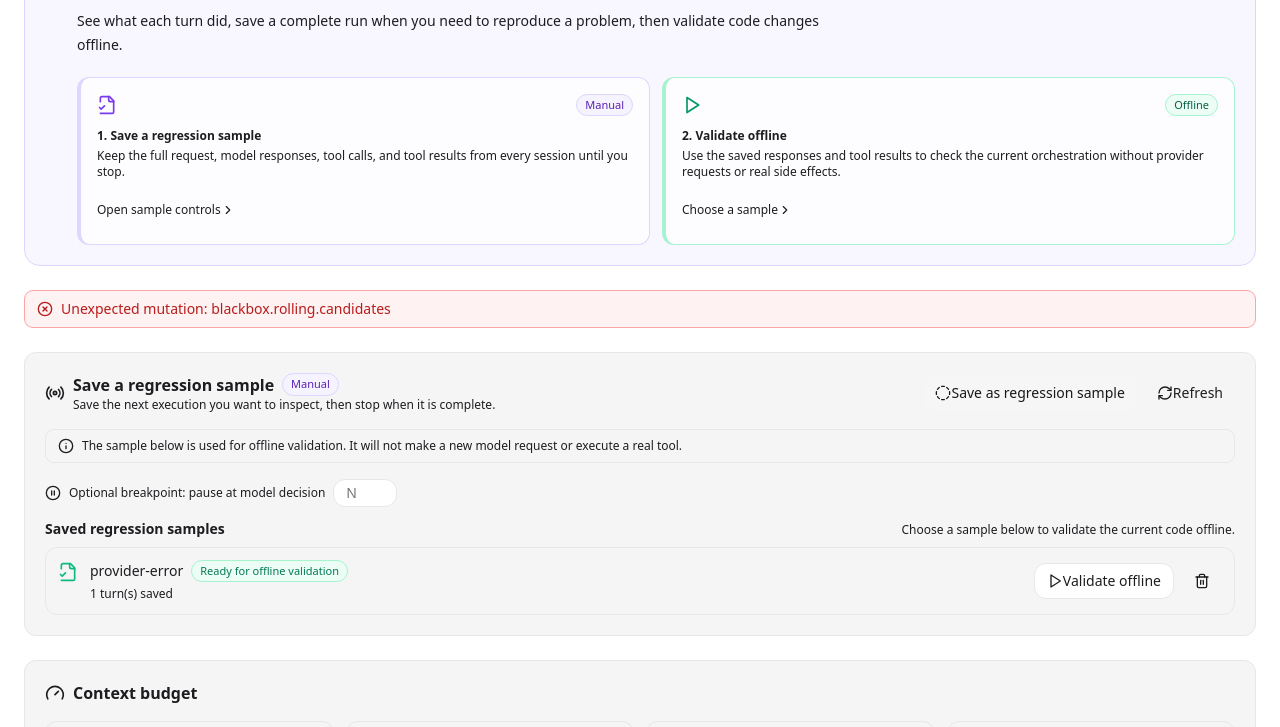
Test: Record & Replay inspection › surfaces provider failures separately from a consistent replay
Click the button "Validate offline" at (1104, 581), box [1034,563,1174,599]
(page scrolled)
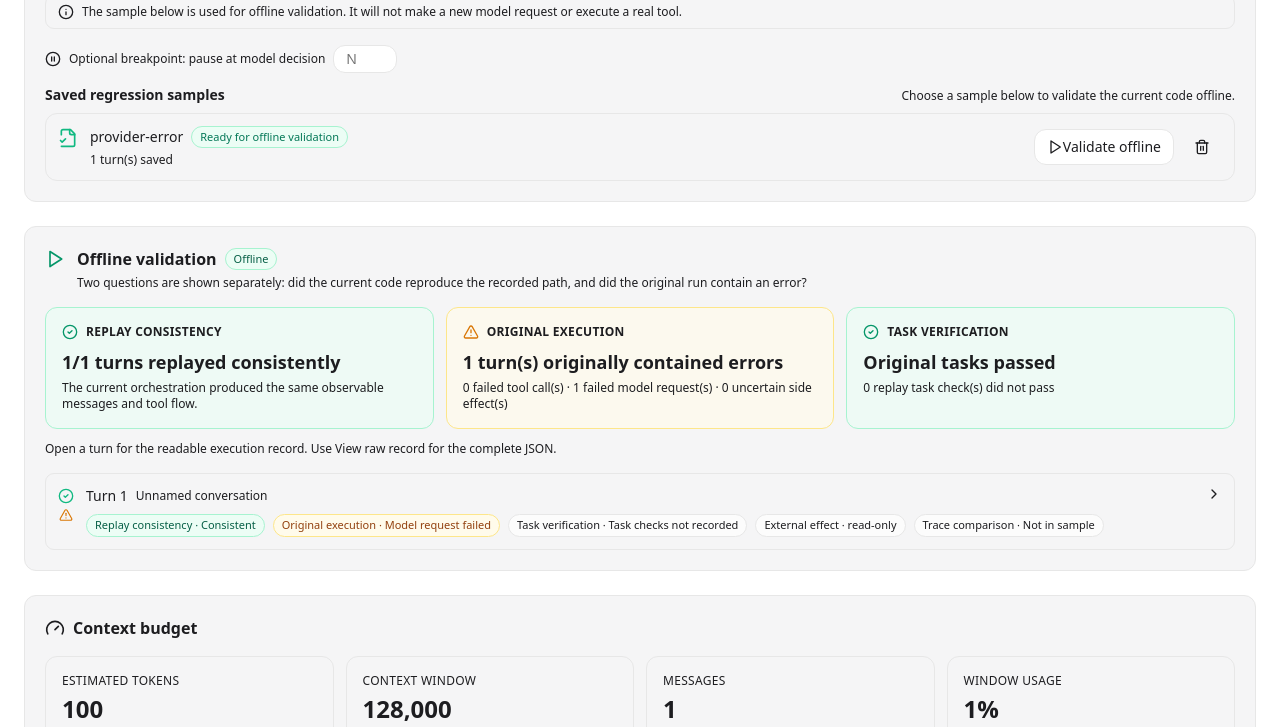
Click the button "Turn 1" at (640, 511), box [46,474,1234,548]
(page scrolled)
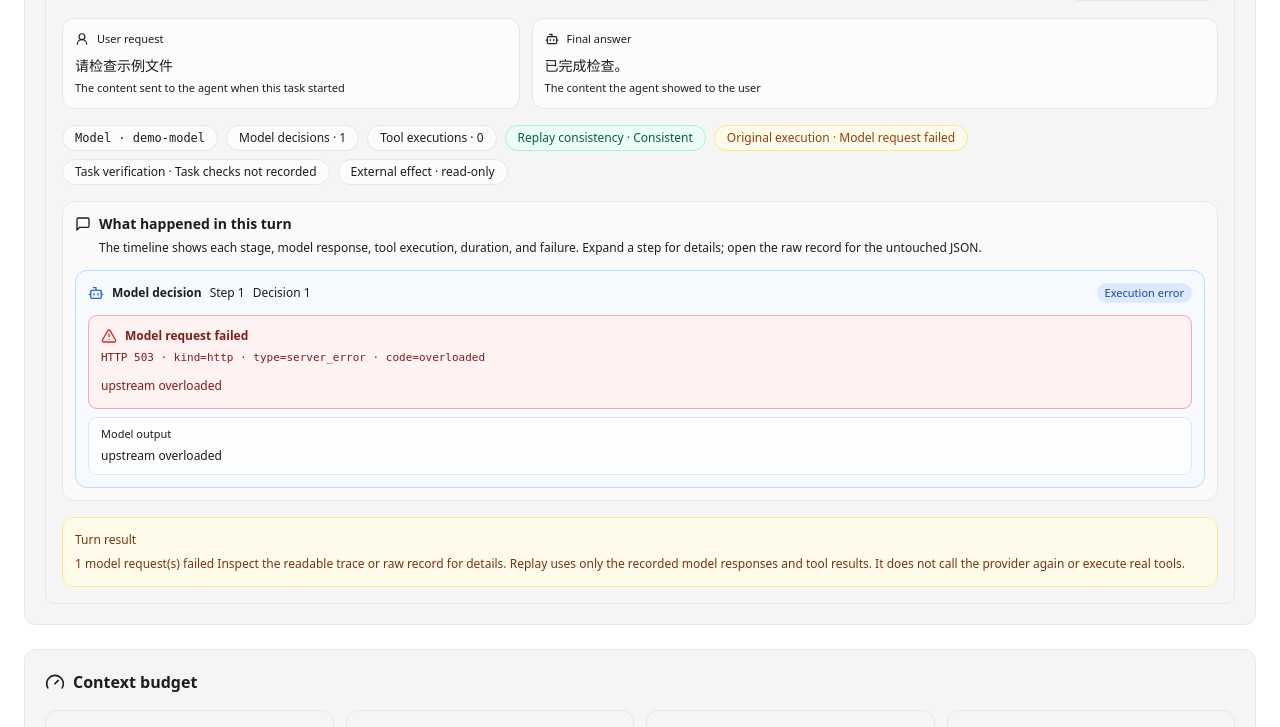
Expected: the text "Model request failed" is shown, [101,326,248,344]
Expected: the text "HTTP 503 · kind=http · type=server_error · code=overloaded" is shown, [101,350,485,364]
